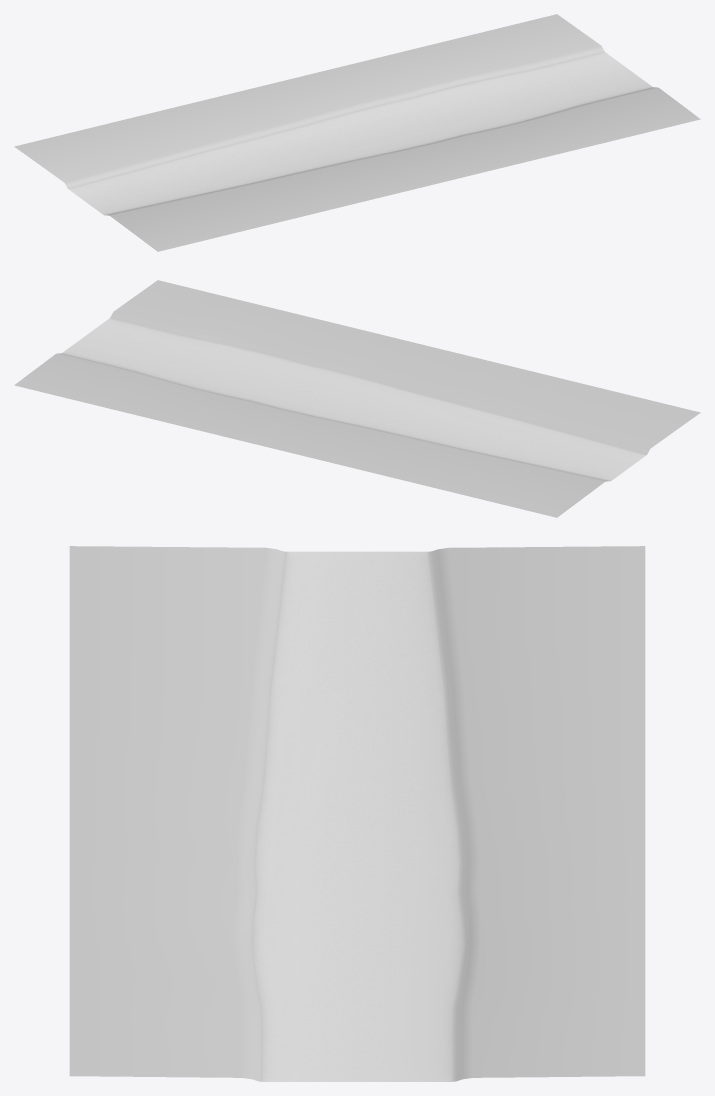
The model's file is TEXTURE PATH.fbx.
3 renders of one model, top to bottom at view 1: azimuth 30°, elevation 25°; view 2: azimuth 150°, elevation 25°; view 3: azimuth 270°, elevation 25°, orthographic. The views are drawn at different scales.
Parts seen in each view (by area): view 1: Plane; view 2: Plane; view 3: Plane.
Boxes of the visible parts, box(x1,y1,x2,y2) form: Plane: box(14, 14, 700, 251); Plane: box(14, 280, 700, 517); Plane: box(69, 546, 645, 1081).
Size of the model in its own units: 19.06 by 0.095 by 8.73.
2 materials, 1 textured.
